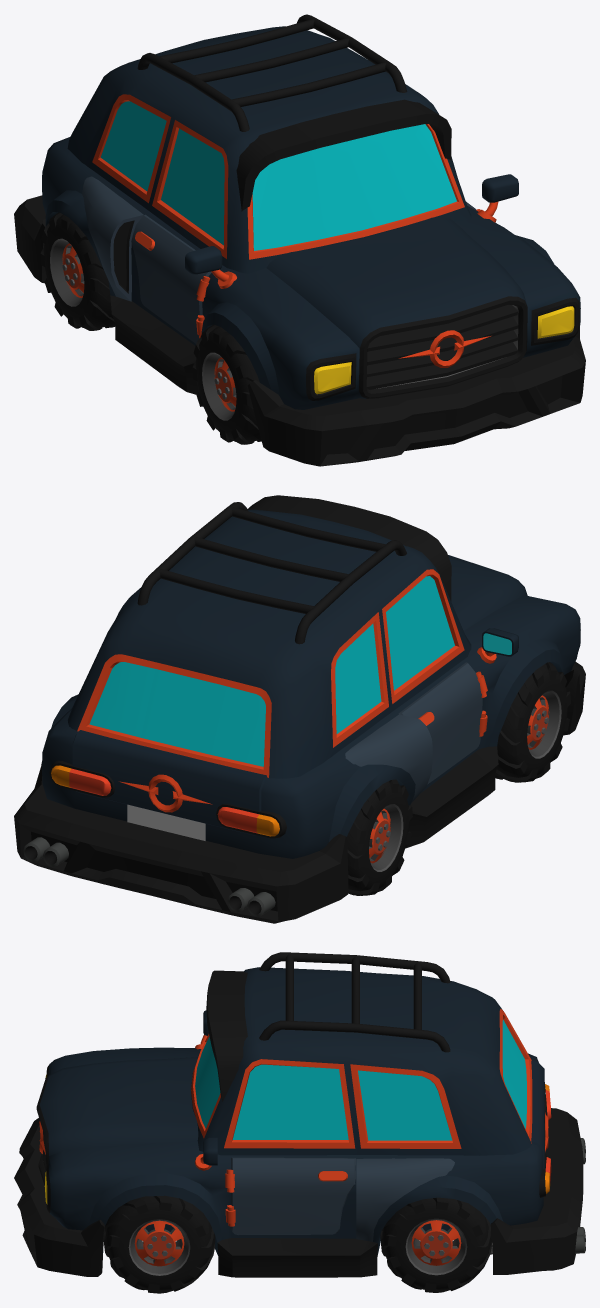
Rendered from VEH11-B.fbx.
3 views of the same model, one above another, from view 1: azimuth 30°, elevation 25°; view 2: azimuth 150°, elevation 25°; view 3: azimuth 270°, elevation 25° (orthographic). The views are drawn at different scales.
Visible parts, largest first — view 1: VEH11_B, V11B_Wheel_BR, V11B_Wheel_FR; view 2: VEH11_B, V11B_Wheel_FR, V11B_Wheel_BR; view 3: VEH11_B, V11B_Wheel_FL, V11B_Wheel_BL.
Boxes of the visible parts, box(x1,y1,x2,y2) form: VEH11_B: box(14, 14, 585, 466); V11B_Wheel_BR: box(40, 212, 115, 330); V11B_Wheel_FR: box(192, 324, 261, 444); VEH11_B: box(14, 495, 585, 923); V11B_Wheel_FR: box(495, 662, 570, 782); V11B_Wheel_BR: box(347, 779, 412, 895); VEH11_B: box(14, 952, 585, 1277); V11B_Wheel_FL: box(104, 1195, 215, 1293); V11B_Wheel_BL: box(380, 1197, 491, 1292).
Size of the model in its own units: 270 by 211 by 453.
Materials: 1 (1 with a texture image).
